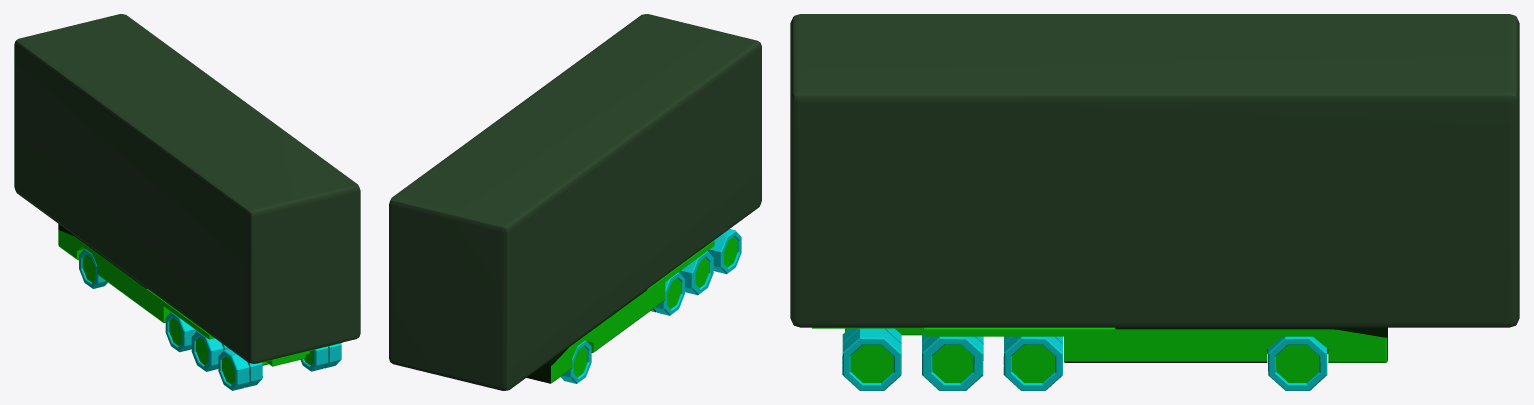
Rendered from SemiTruck.fbx.
3 renders of one model, left to right at view 1: azimuth 30°, elevation 25°; view 2: azimuth 150°, elevation 25°; view 3: azimuth 270°, elevation 25°, orthographic. The views are drawn at different scales.
Visible parts, largest first — view 1: SemiTruckBack, SemiTruckFront; view 2: SemiTruckBack, SemiTruckFront; view 3: SemiTruckBack, SemiTruckFront.
Part boxes in pixels (bbox=[...]): SemiTruckBack: bbox=[14, 14, 360, 390]; SemiTruckFront: bbox=[58, 224, 228, 371]; SemiTruckBack: bbox=[389, 14, 761, 390]; SemiTruckFront: bbox=[526, 240, 714, 383]; SemiTruckBack: bbox=[790, 14, 1519, 390]; SemiTruckFront: bbox=[922, 327, 1387, 390].
Size of the model in its own units: 1.82 by 3.04 by 6.69.
